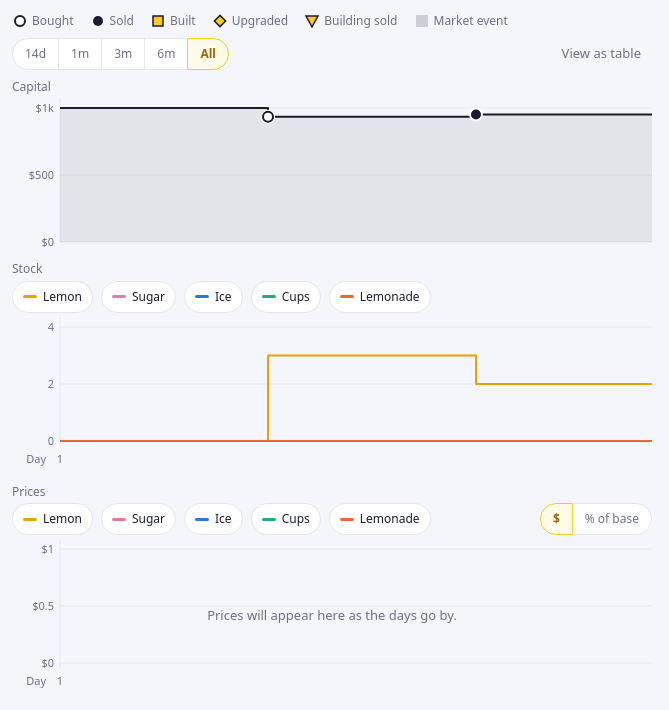
Test: TimelineChartsComponent › offers the same data as a table
Step 1. Click the button with class "table-toggle" → (601, 54), box [551,38,652,70]
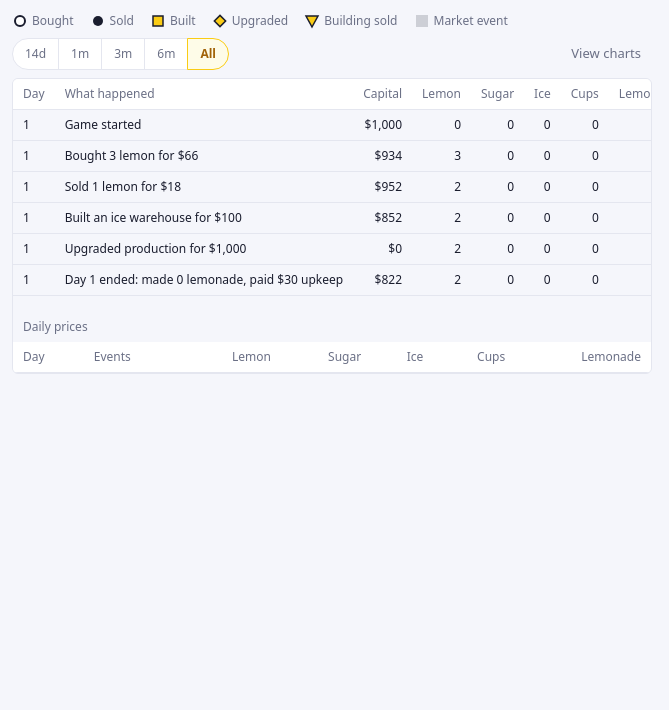
Check: the element with class "chart" is gone
Check: the row "1 Bought 3 lemon for $66 $934 3 0 0 0 0" is shown, box [13,140,652,172]
Step 2. Click the button with class "table-toggle" → (606, 54), box [560,38,652,70]
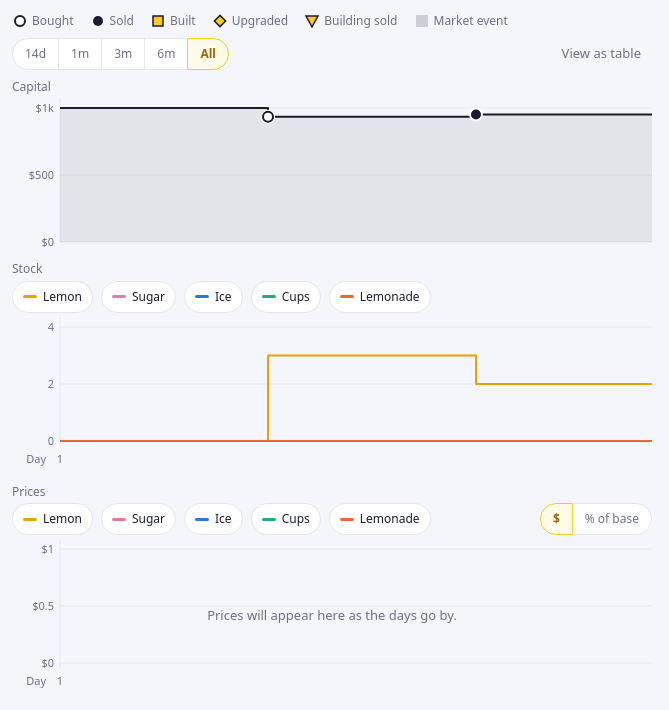
Check: the element with class "chart" is shown
